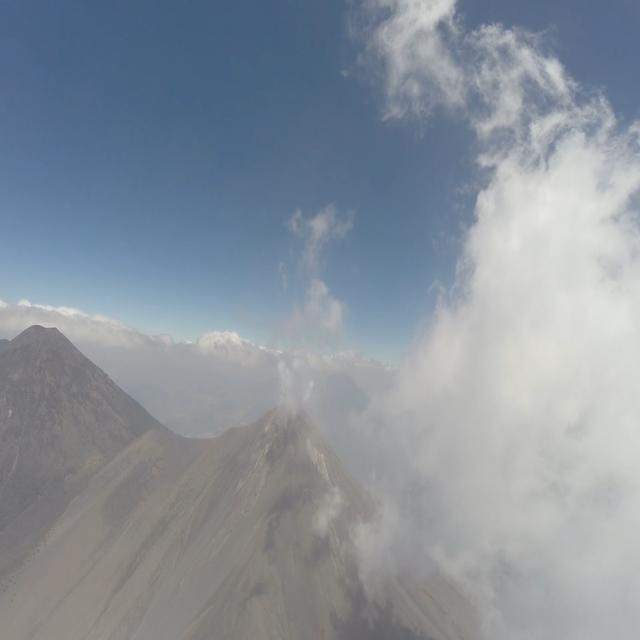Summit: (224, 398, 359, 488)
